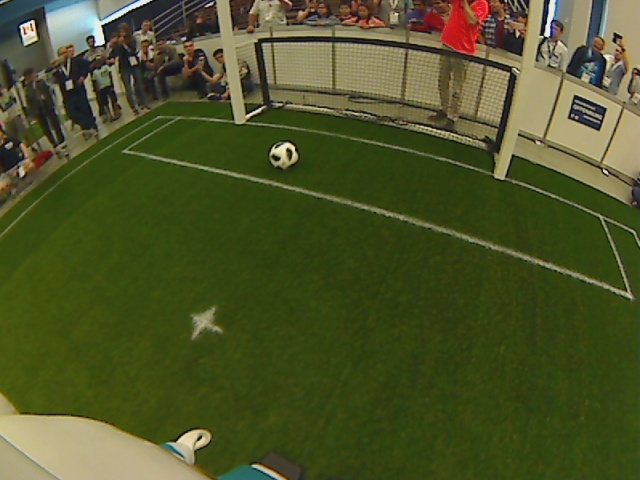ball: (267, 139, 300, 170)
